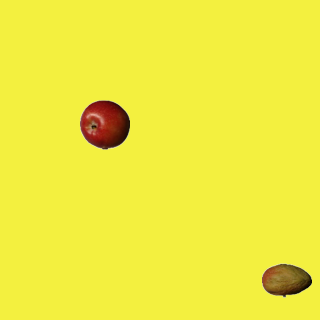Apple Braeburn: (79, 99, 129, 149)
Papaya: (261, 255, 311, 305)
